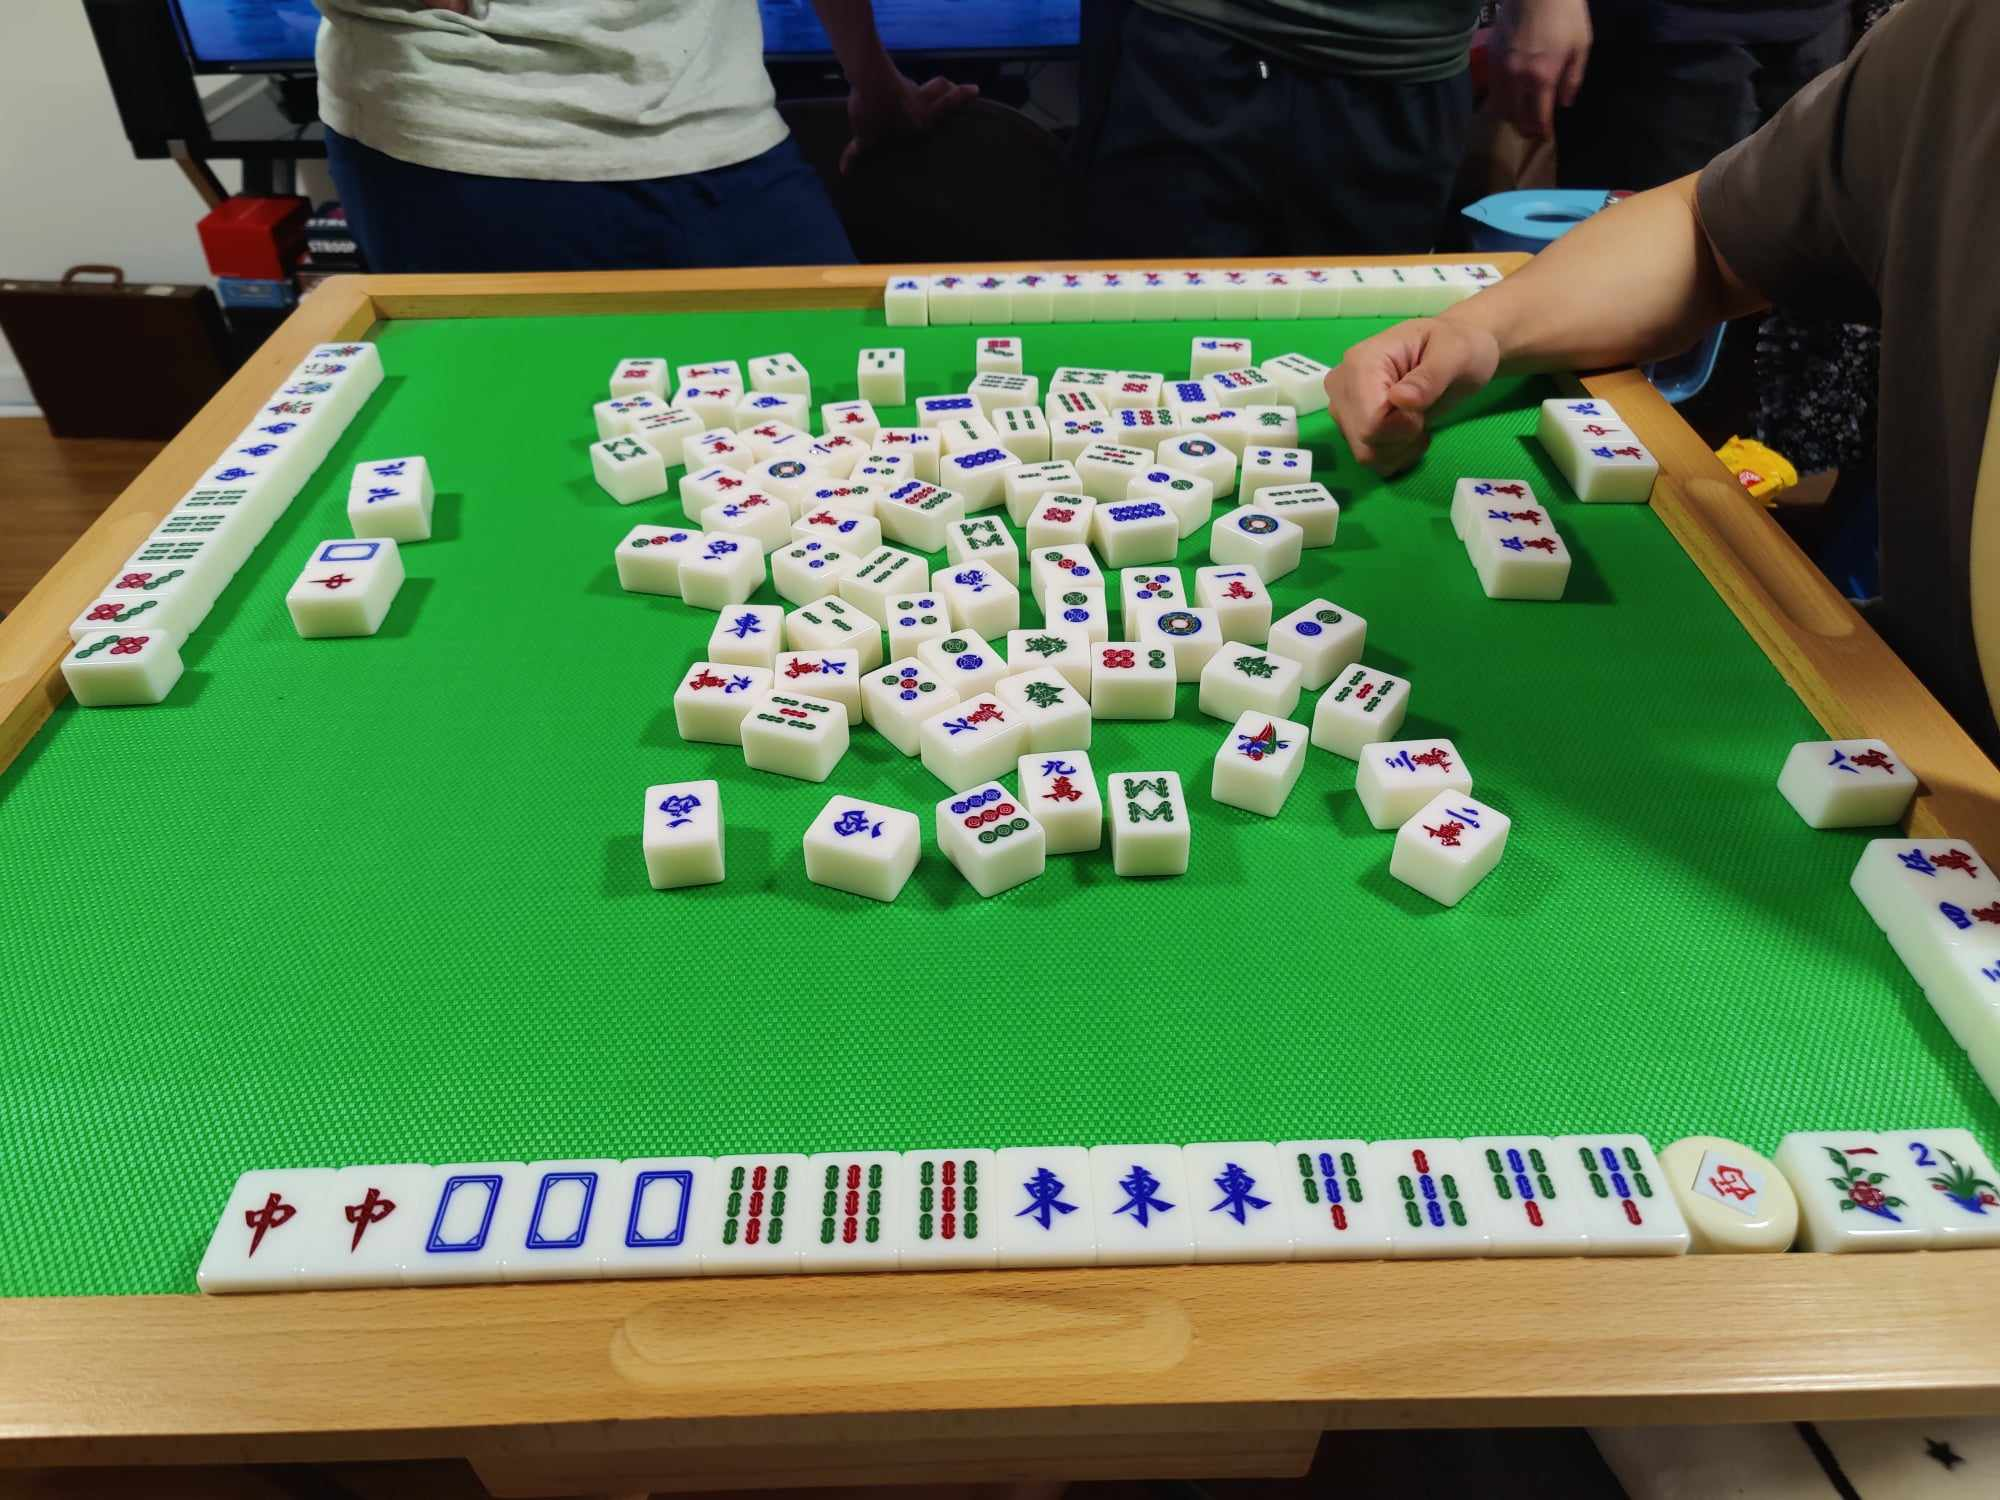bamboo-nine: (713, 1160, 802, 1259), (814, 1160, 894, 1257), (910, 1157, 986, 1254)
bamboo-seven: (1576, 1136, 1676, 1240), (1482, 1138, 1572, 1238), (1291, 1142, 1380, 1242), (1386, 1138, 1477, 1232)
flower-blue_two: (1907, 1131, 2000, 1231)
flower-red_one: (1791, 1134, 1907, 1242)
honor-blue_dragon: (420, 1164, 506, 1262), (520, 1168, 602, 1257), (619, 1164, 694, 1257)
honor-east_wind: (1000, 1153, 1083, 1248), (1192, 1149, 1276, 1242), (1099, 1150, 1180, 1245)
honor-red_dragon: (328, 1169, 403, 1268), (231, 1172, 301, 1273)
